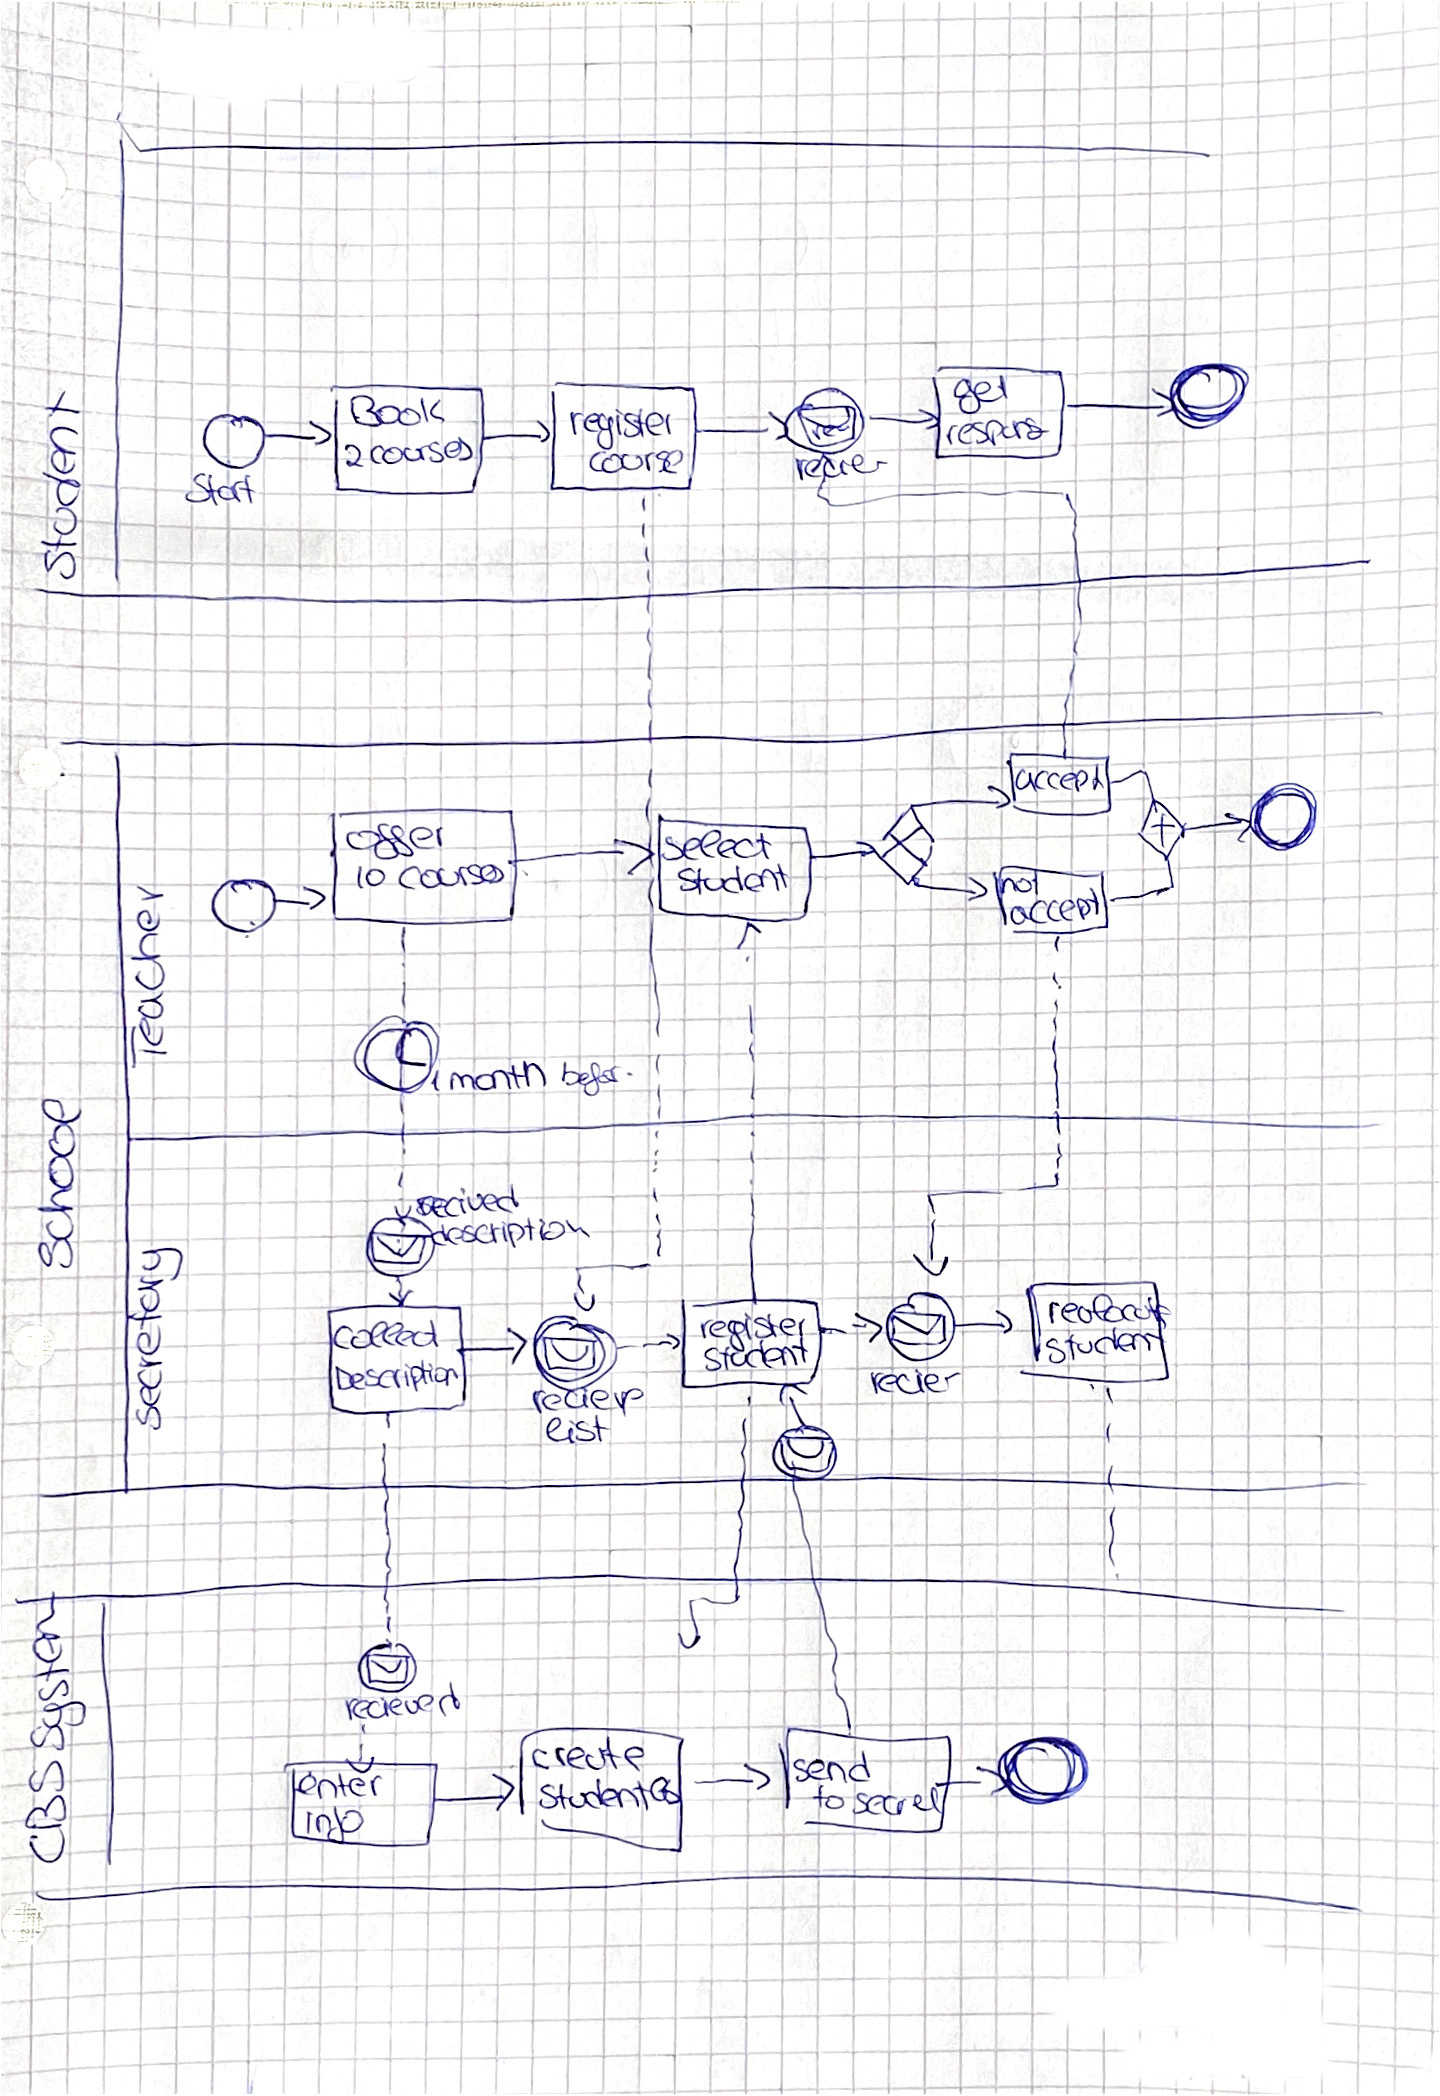1: (428, 1067, 448, 1098)
10: (348, 863, 388, 893)
2: (340, 441, 367, 472)
Book: (345, 388, 446, 431)
CBS: (24, 1762, 70, 1862)
Description: (335, 1361, 461, 1394)
Start: (184, 472, 257, 511)
System: (29, 1591, 86, 1756)
Teacher: (126, 884, 170, 1065)
accept: (1006, 903, 1103, 935), (1015, 764, 1107, 793)
before: (557, 1053, 634, 1092)
collect: (332, 1321, 441, 1354)
course: (587, 448, 685, 481)
courses: (397, 859, 506, 894), (365, 438, 475, 467)
create: (529, 1738, 650, 1775)
description: (427, 1217, 590, 1246)
enter: (291, 1769, 387, 1802)
get: (955, 374, 1014, 414)
info: (301, 1807, 363, 1844)
list: (537, 1414, 611, 1447)
month: (450, 1052, 546, 1097)
not: (998, 873, 1040, 901)
offer: (344, 822, 447, 859)
receive: (530, 1385, 643, 1415)
recier: (866, 1366, 961, 1399)
reciev: (788, 452, 890, 483)
recieved: (340, 1687, 462, 1721)
recived: (413, 1187, 522, 1216)
register: (564, 404, 676, 444), (695, 1312, 808, 1339)
reolocate: (1045, 1293, 1171, 1331)
response: (946, 417, 1047, 455)
school: (32, 1094, 84, 1269)
secret: (850, 1789, 949, 1815)
secretary: (130, 1242, 182, 1432)
select: (660, 827, 775, 865)
send: (791, 1751, 878, 1785)
student: (37, 391, 86, 586), (1045, 1324, 1163, 1367), (674, 863, 795, 896), (704, 1341, 812, 1375)
students: (535, 1775, 682, 1814)
to: (810, 1786, 852, 1814)
